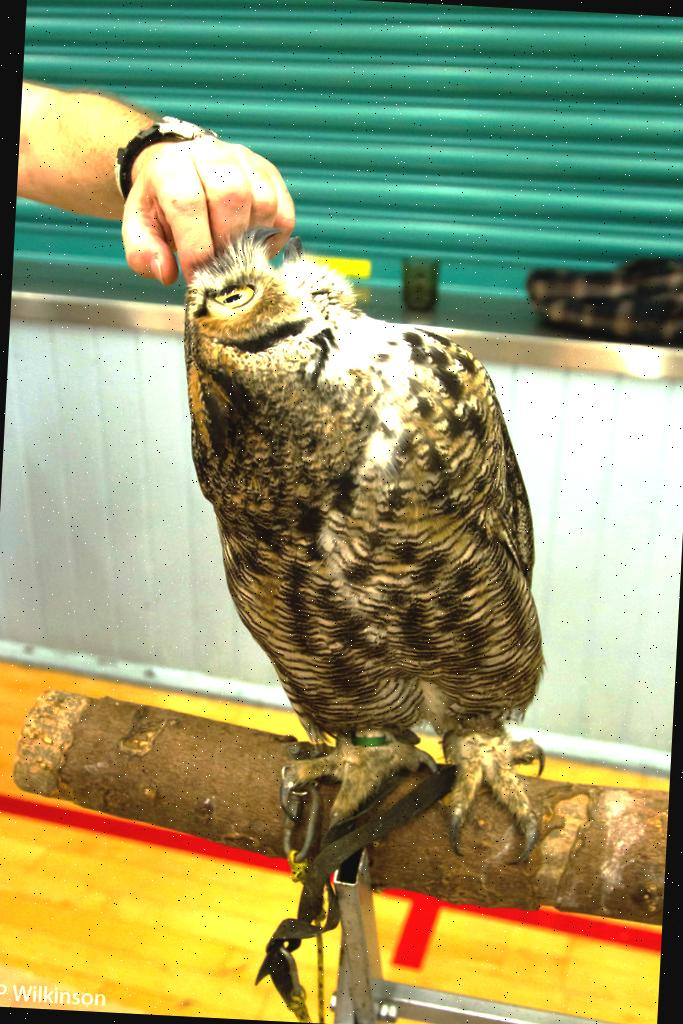Owl: (130, 208, 590, 834)
